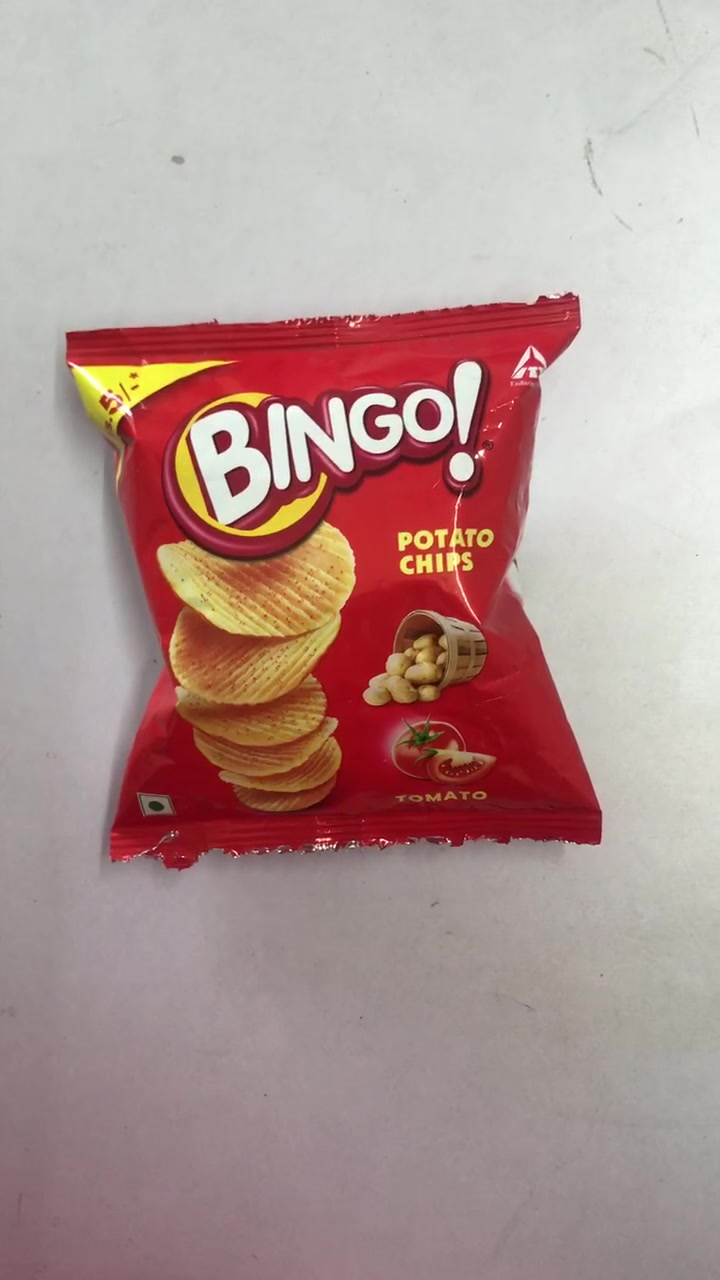Bingo: (73, 330, 599, 841)
